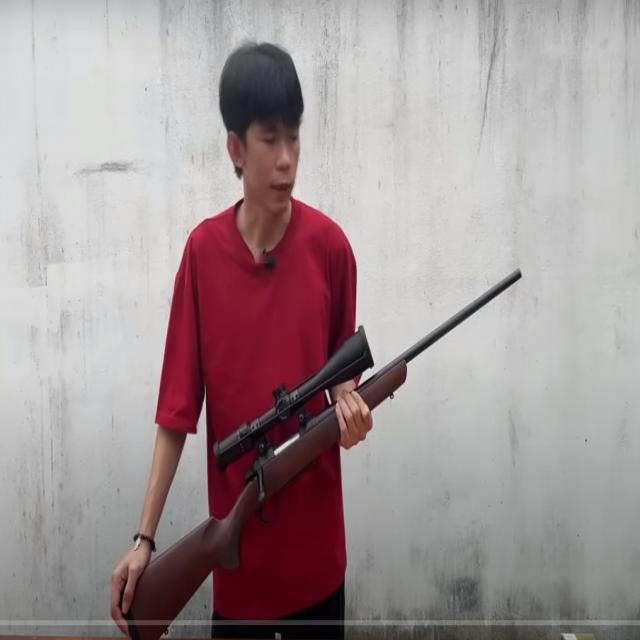rifle: (100, 262, 532, 622)
